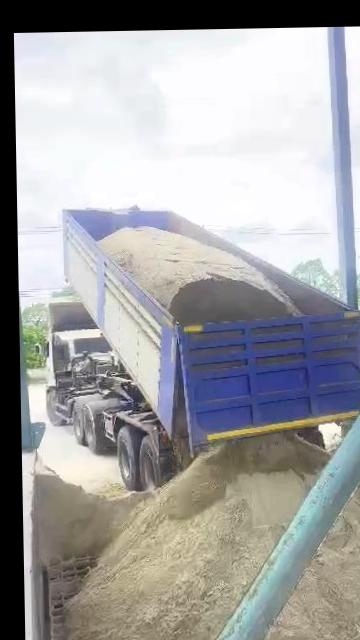sand: (68, 433, 328, 640), (100, 227, 299, 324), (256, 458, 360, 640), (34, 465, 152, 566), (177, 405, 188, 460), (97, 483, 127, 498)
